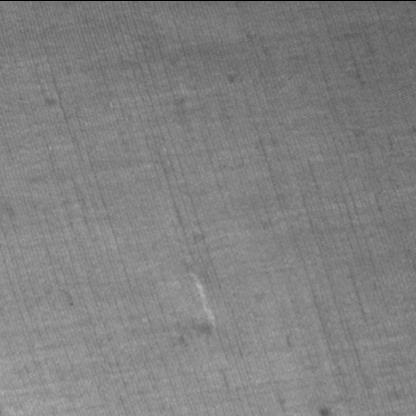thread error: (184, 268, 218, 338)
